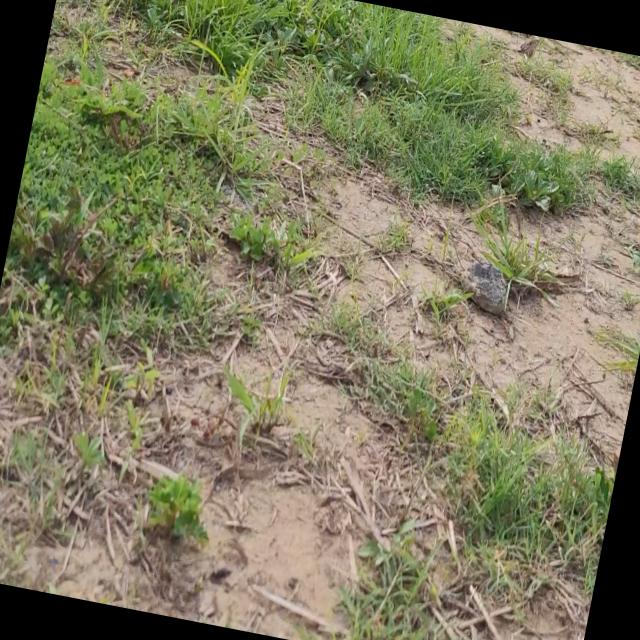grass: (113, 0, 598, 208), (6, 61, 265, 341), (444, 406, 616, 595), (342, 520, 449, 640)
white-sand: (0, 171, 640, 640)
